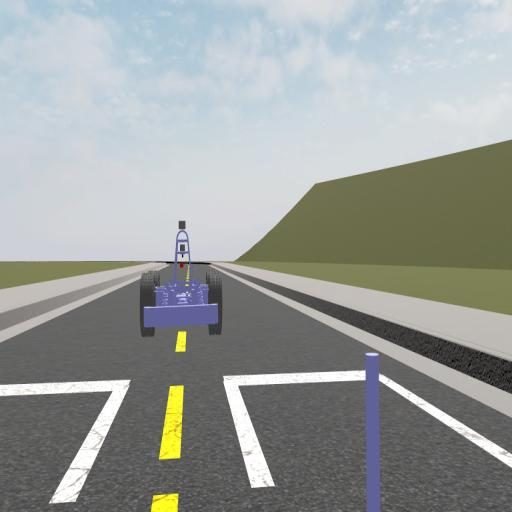ERP-42: (140, 220, 224, 336)
